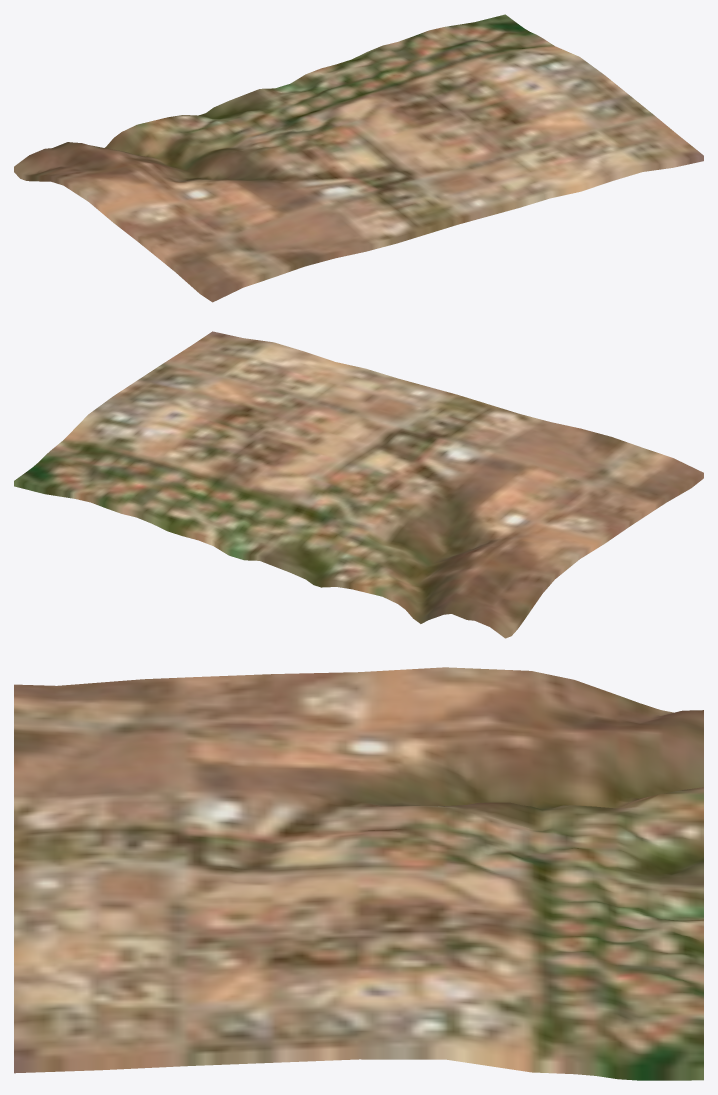
Rendered from terrain_r3_c0_lod2.glb.
3 renders of one model, top to bottom at view 1: azimuth 30°, elevation 25°; view 2: azimuth 150°, elevation 25°; view 3: azimuth 270°, elevation 25°, orthographic. The views are drawn at different scales.
Parts seen in each view (by area): view 1: terrain_r3_c0_lod2; view 2: terrain_r3_c0_lod2; view 3: terrain_r3_c0_lod2.
Boxes of the visible parts, <box> form: terrain_r3_c0_lod2: <box>14,14,703,302</box>; terrain_r3_c0_lod2: <box>14,331,703,638</box>; terrain_r3_c0_lod2: <box>14,667,703,1080</box>.
Bounding box in the file's own units: 1125 × 125 × 787.
1 material, 1 textured.
